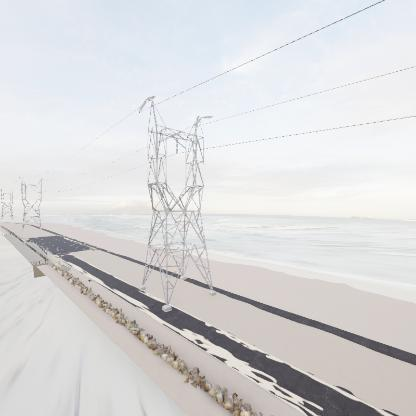tower: (135, 94, 221, 315), (16, 177, 46, 231)
